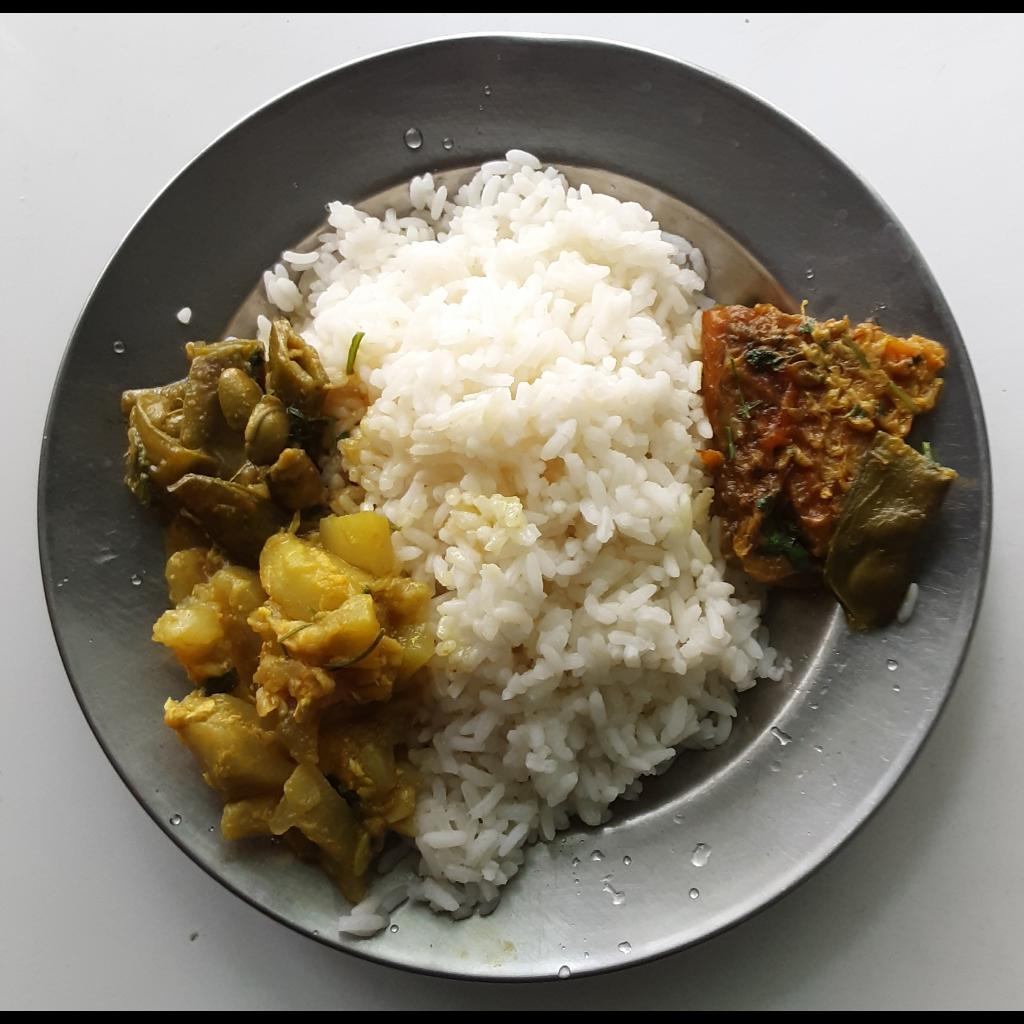fish: (702, 300, 959, 577)
lau: (145, 510, 433, 907)
rice: (257, 140, 780, 944)
shim: (120, 311, 324, 570), (826, 421, 961, 626)
